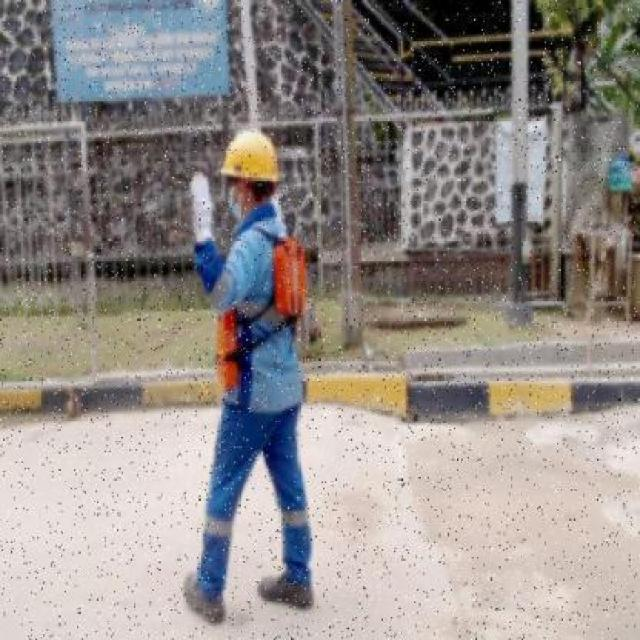Boots: (181, 564, 228, 630), (254, 565, 318, 613)
Gloves: (186, 172, 217, 250)
Helmet: (216, 123, 282, 183)
Mask: (226, 184, 242, 221)
Vest: (273, 234, 312, 321)
